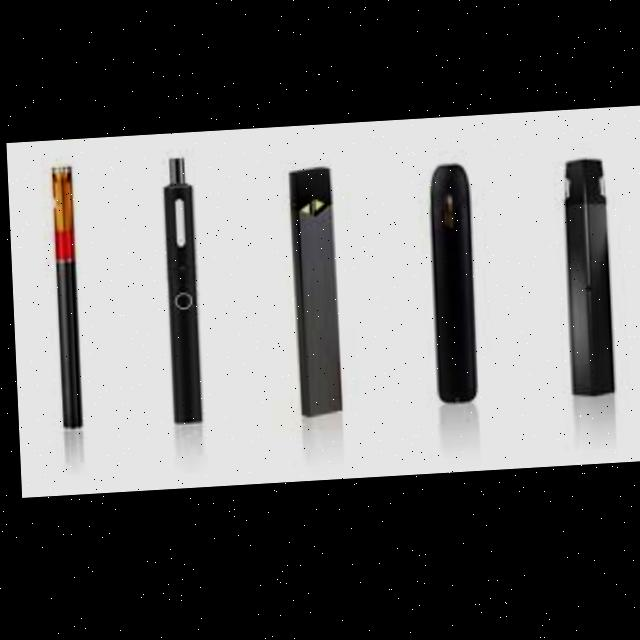vape: (286, 169, 340, 420), (561, 165, 612, 402), (427, 167, 475, 410), (160, 157, 201, 425), (50, 166, 81, 428)
